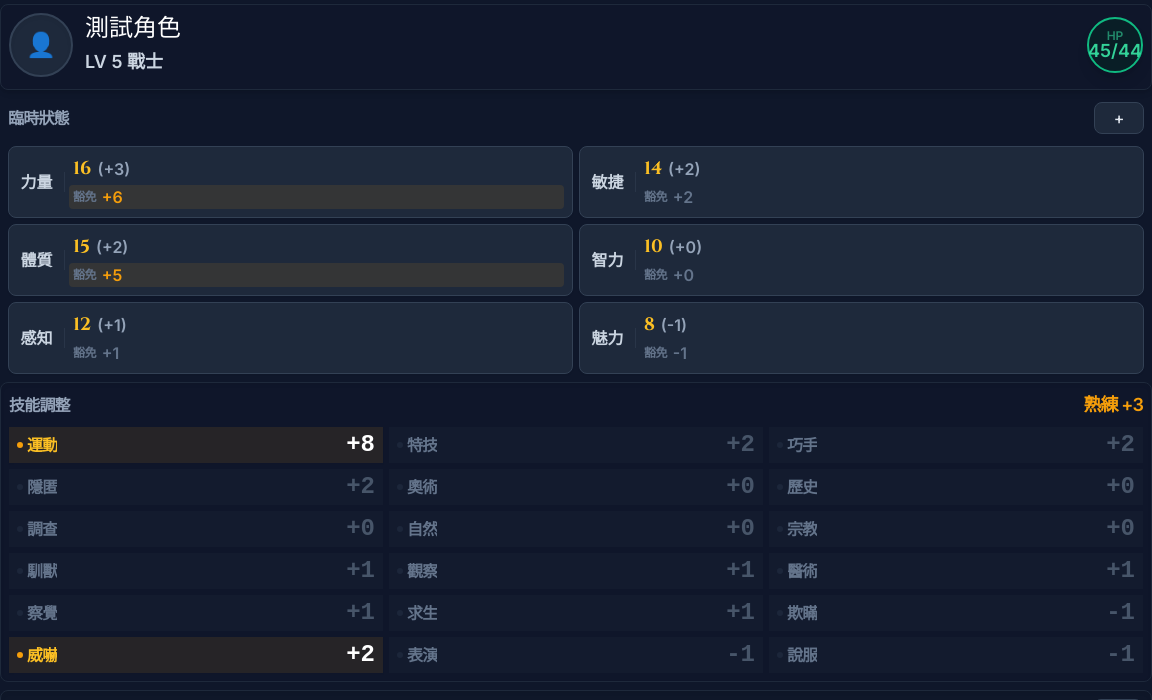
Scenario: CharacterSheet - 技能調整 skill_detail modal › 點擊技能後應開啟 skill_detail modal，顯示 SegmentBar 與基礎值/最終總計區塊
This screenshot has width=1152, height=700.
Click the text "運動". click: (42, 445)
box: [27, 437, 57, 453]
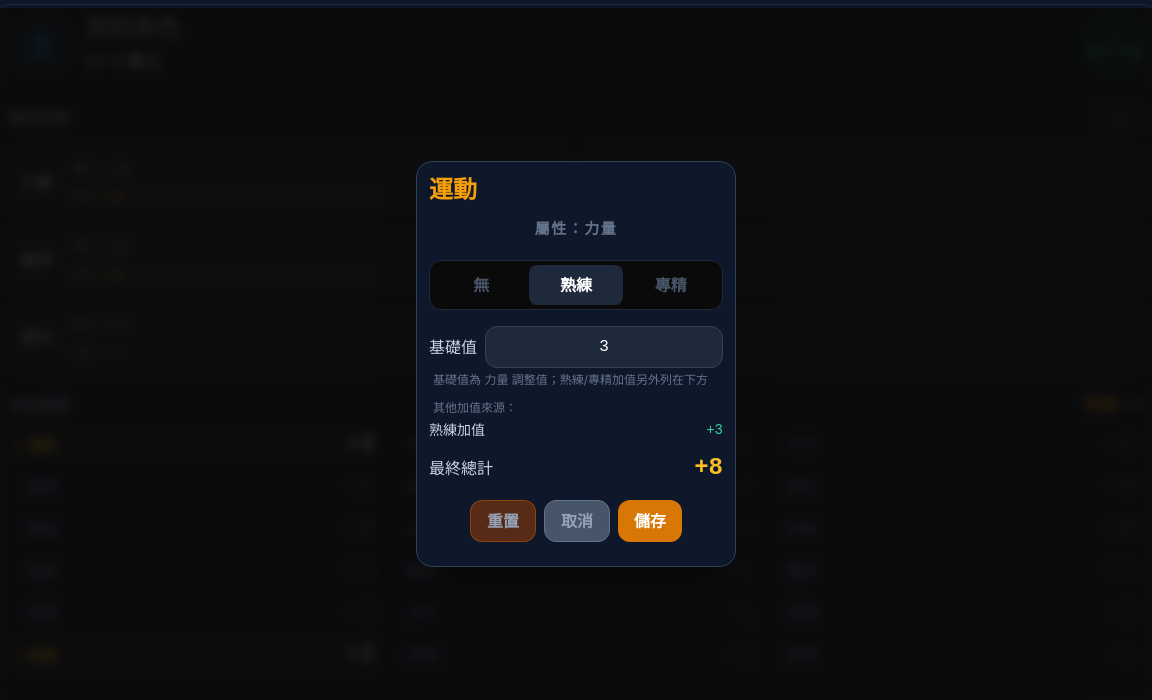
Expected: the text "屬性：力量" is shown, [535, 219, 617, 238]
Expected: the button "無" is shown, [434, 265, 529, 305]
Expected: the button "熟練" is shown, [529, 265, 623, 305]
